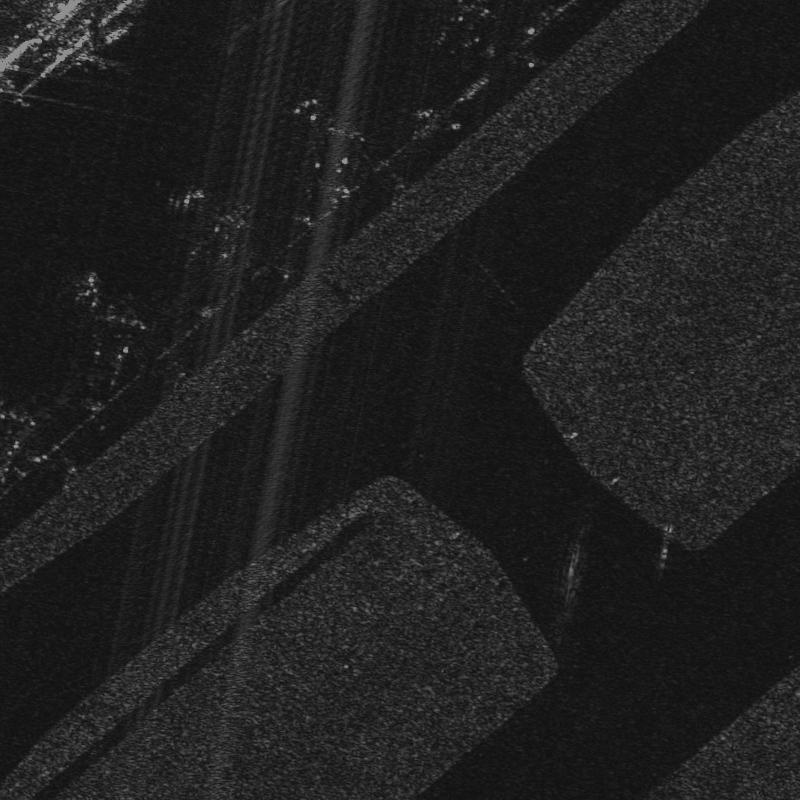Boeing787: (64, 266, 145, 349)
other: (169, 180, 261, 269), (292, 89, 380, 176)
